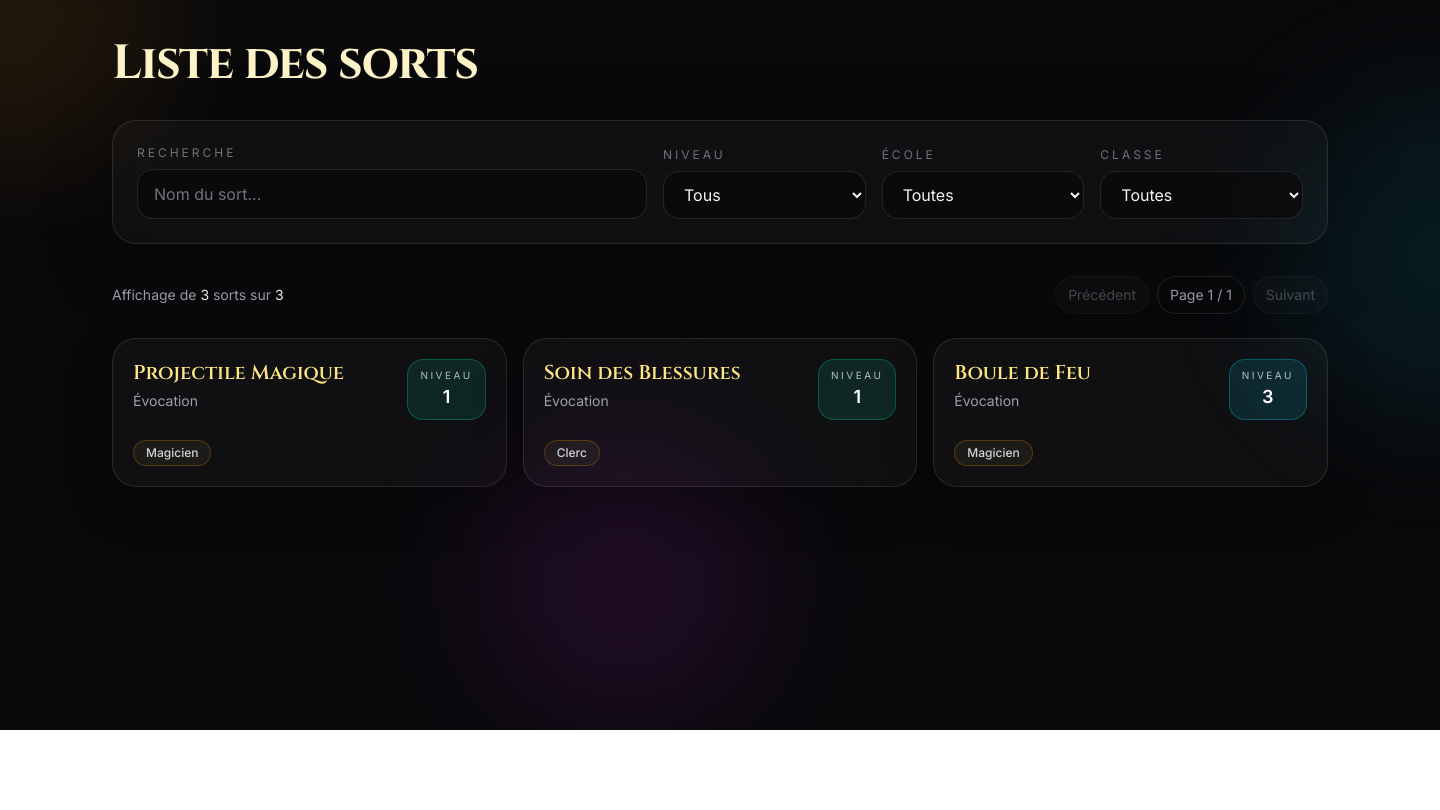
Test: SortsListView filtering › filters by spell level
Select "1" in the 1st dropdown: {"x": 764, "y": 195} x1=663 y1=171 x2=866 y2=219
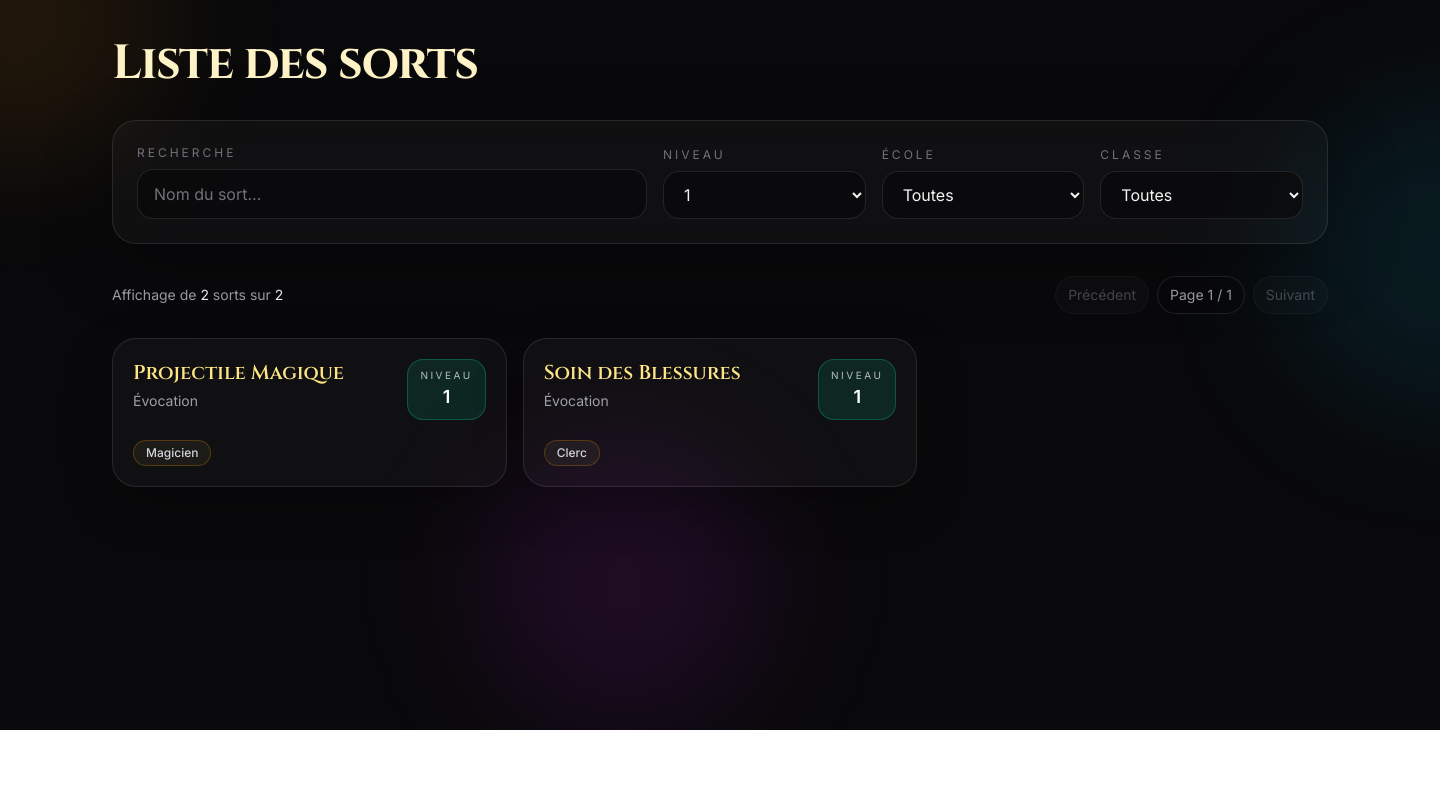
Check: the text "Projectile Magique" is shown, box x1=133 y1=359 x2=344 y2=387
Check: the text "Boule de Feu" is gone
